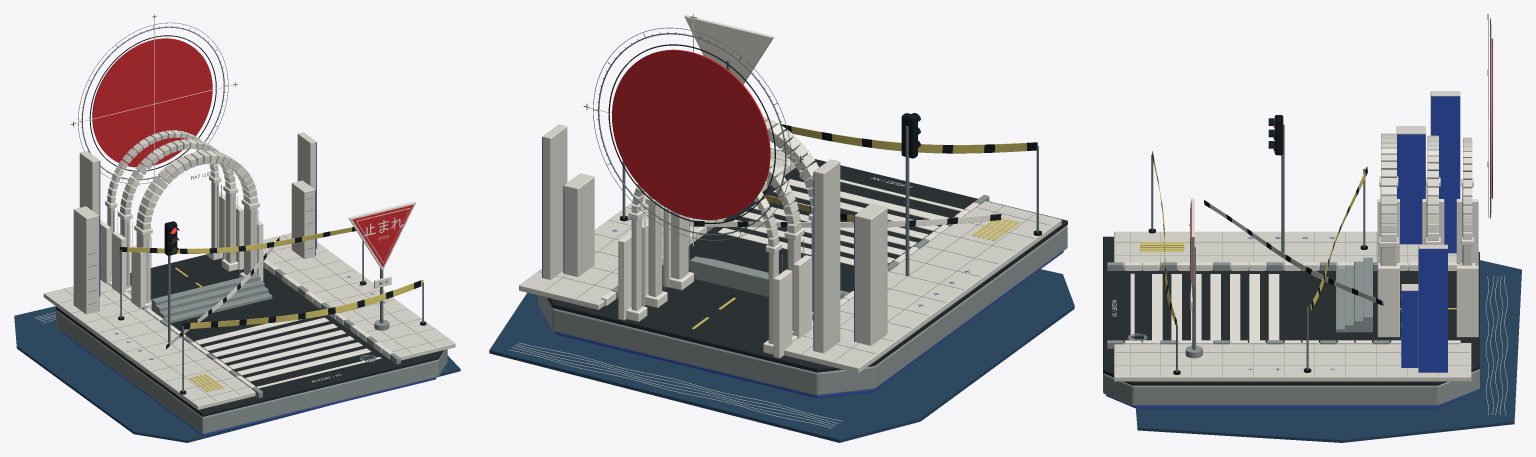
Rendered from genesis-crossing.glb.
3 views of the same model, side by side, from view 1: azimuth 30°, elevation 25°; view 2: azimuth 150°, elevation 25°; view 3: azimuth 270°, elevation 25° (orthographic). The views are drawn at different scales.
Parts seen in each view (by area): view 1: Pavement, Sanctuary, Road, Halo, Waters, Island, Fins, Crosswalk, Tape, Sign_Stop, Signal, Boundary; view 2: Waters, Halo, Pavement, Road, Sanctuary, Fins, Island, Crosswalk, Tape, Sign_Stop, Water_Lines, Signal; view 3: Pavement, Waters, Road, Sanctuary, Fins, Island, Crosswalk, Tape, Signal, Sign_Stop, Boundary, Water_Lines (+1 smaller).
Part boxes in pixels (x1,y1,x2,y2): Pavement: (43, 233, 455, 409); Sanctuary: (100, 130, 272, 323); Road: (56, 254, 444, 416); Halo: (71, 14, 237, 184); Waters: (14, 306, 460, 442); Island: (56, 310, 447, 435); Fins: (73, 132, 316, 314); Crosswalk: (194, 317, 381, 388); Tape: (119, 227, 423, 349); Sign_Stop: (348, 201, 416, 330); Signal: (164, 221, 179, 342); Boundary: (118, 240, 426, 394); Waters: (489, 269, 1074, 442); Halo: (583, 14, 803, 246); Pavement: (519, 148, 1061, 373); Road: (547, 148, 1067, 372); Sanctuary: (618, 116, 849, 358); Fins: (542, 124, 887, 353); Island: (538, 225, 1067, 397); Crosswalk: (718, 170, 963, 265); Tape: (662, 123, 1037, 227); Sign_Stop: (684, 15, 774, 84); Water_Lines: (509, 342, 841, 428); Signal: (901, 113, 920, 276); Pavement: (1107, 231, 1471, 381); Waters: (1136, 260, 1521, 442); Road: (1103, 236, 1479, 385); Sanctuary: (1336, 133, 1478, 337); Fins: (1396, 91, 1460, 372); Island: (1103, 369, 1479, 408); Crosswalk: (1130, 273, 1279, 342); Tape: (1152, 151, 1384, 325); Signal: (1268, 115, 1284, 253); Sign_Stop: (1185, 198, 1202, 358); Boundary: (1148, 154, 1367, 374); Water_Lines: (1485, 276, 1507, 414).
Size of the model in its own units: 18 by 14.73 by 17.
